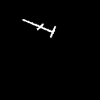double_crochet: (23, 19, 55, 36)
